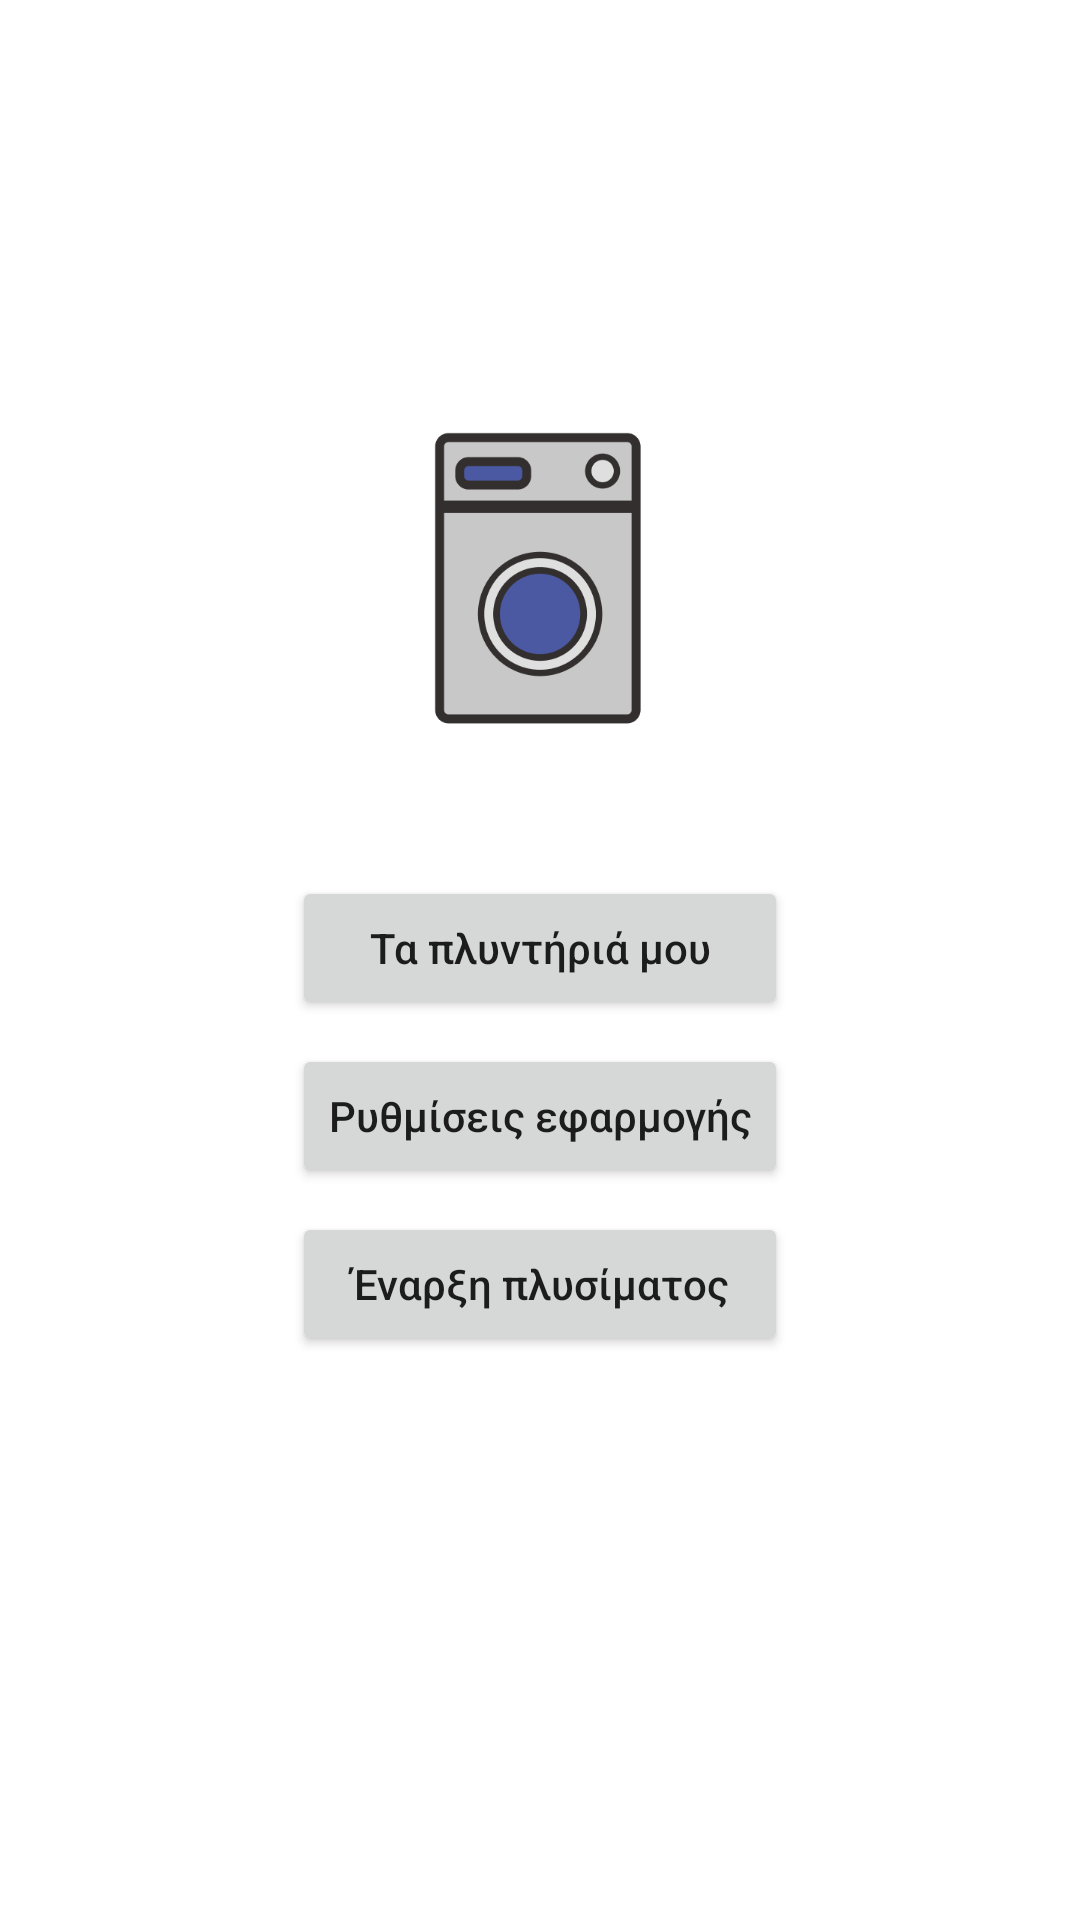

Where icons sit on this 1080px x 1920px app screen, as (x1, y1, x2, y2):
washer: (435, 433, 641, 724)
